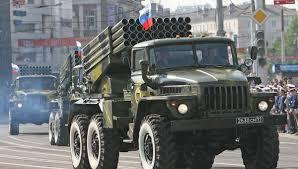MIL_SAM_TEL: (68, 15, 283, 169), (11, 66, 60, 137)
